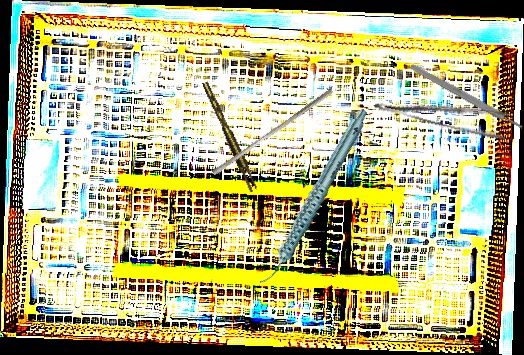Dressing Forceps: (373, 79, 512, 143)
Handpiece: (226, 107, 401, 288)
Pusher: (211, 83, 334, 180)
Scalpel Handle: (409, 62, 524, 132)
Tissue Forceps: (202, 79, 258, 194)
